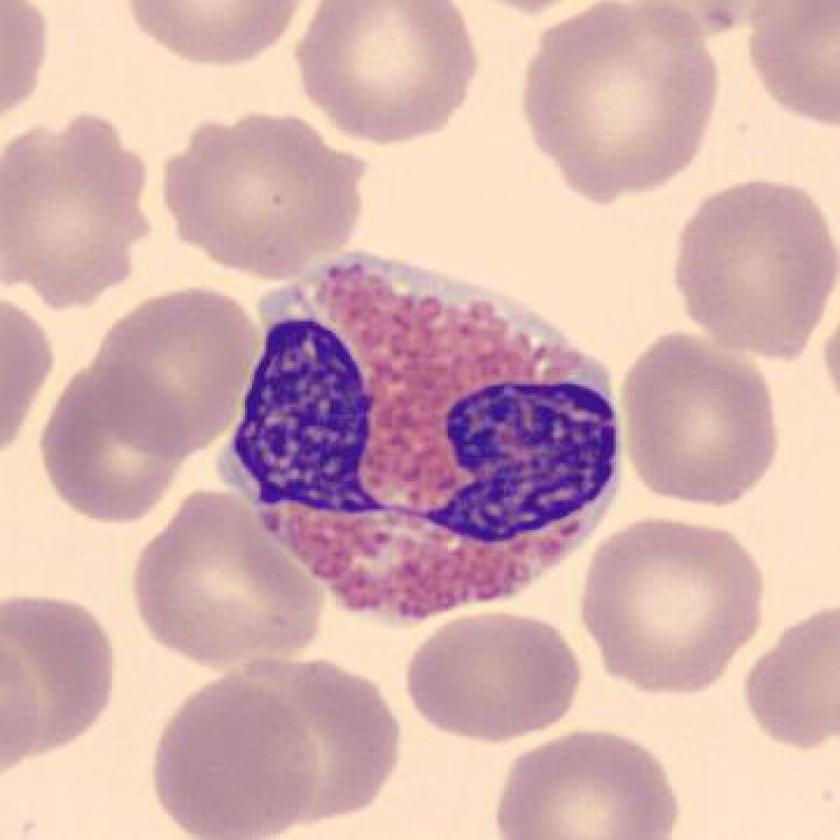eosinophil: (207, 237, 641, 633)
